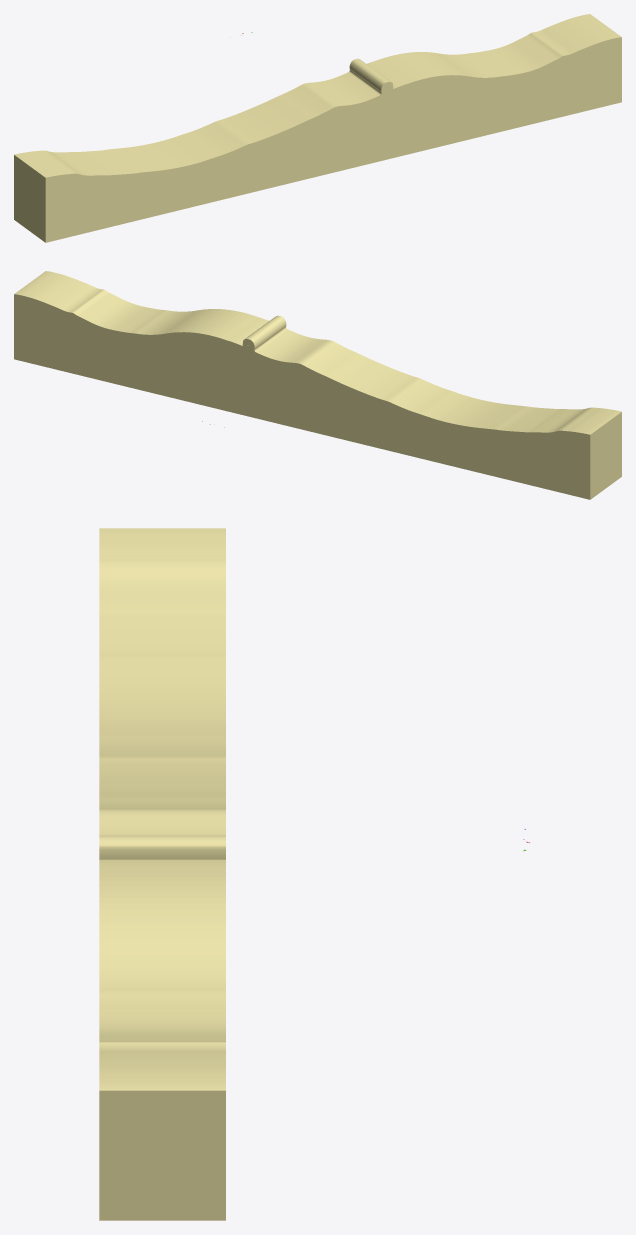
Rendered from sandborder3.fbx.
3 renders of one model, top to bottom at view 1: azimuth 30°, elevation 25°; view 2: azimuth 150°, elevation 25°; view 3: azimuth 270°, elevation 25°, orthographic. The views are drawn at different scales.
Parts seen in each view (by area): view 1: Cube; view 2: Cube; view 3: Cube.
Boxes of the visible parts, bbox=[...] form: Cube: bbox=[14, 14, 621, 242]; Cube: bbox=[14, 271, 621, 499]; Cube: bbox=[99, 528, 225, 1220].
Size of the model in its own units: 10.5 by 1.35 by 3.45.
